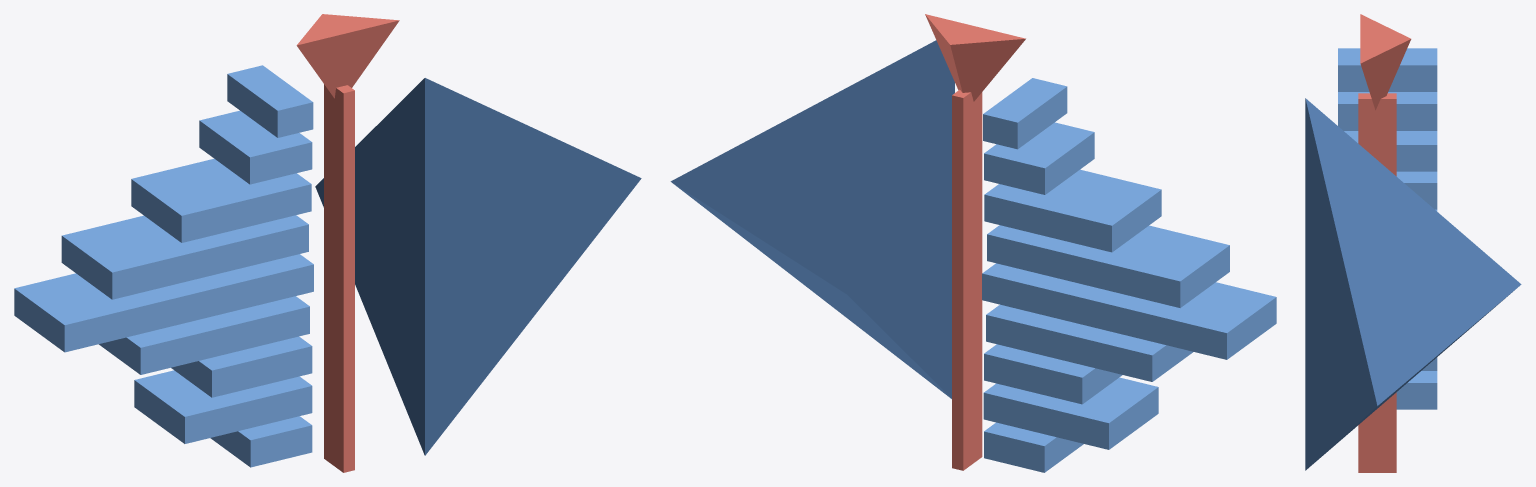
The model's file is kdenlive.glb.
3 renders of one model, left to right at view 1: azimuth 30°, elevation 25°; view 2: azimuth 150°, elevation 25°; view 3: azimuth 270°, elevation 25°, orthographic.
Parts seen in each view (by area): view 1: Cube.009, Cone, Cube, Cone.001; view 2: Cube.009, Cone, Cube, Cone.001; view 3: Cone, Cube.009, Cube, Cone.001.
Part boxes in pixels (x1,y1,x2,y2): Cube.009: (14, 65, 313, 467); Cone: (315, 78, 641, 455); Cube: (324, 84, 354, 472); Cone.001: (296, 14, 399, 98); Cube.009: (982, 78, 1276, 472); Cone: (670, 40, 954, 398); Cube: (952, 89, 982, 470); Cone.001: (925, 14, 1025, 101); Cone: (1305, 98, 1521, 470); Cube.009: (1338, 48, 1437, 409); Cube: (1358, 93, 1396, 472); Cone.001: (1360, 14, 1411, 110).
Bounding box in the file's own units: 4.81 × 3.37 × 1.53.
